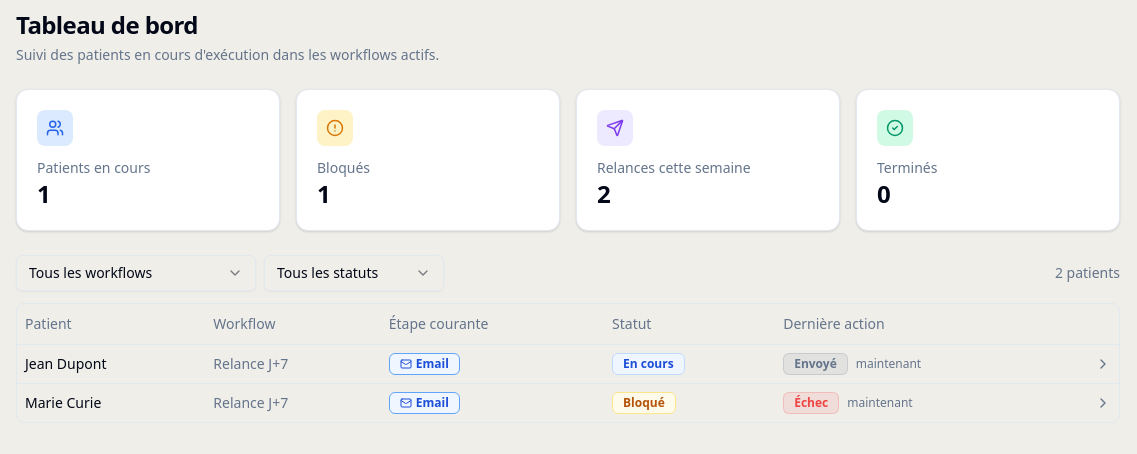
DashboardPage › filters the table by status
The image size is (1137, 454).
Check: the text "Jean Dupont" is shown, box [17,344,205,383]
Press Enter in the dropdown named "Filtrer par statut", box [264,255,444,291]
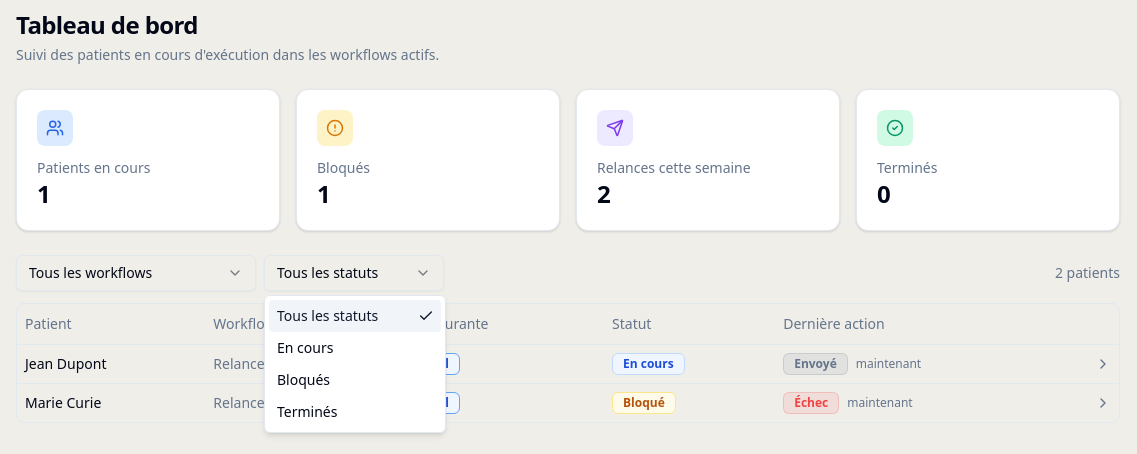
Click the option "Bloqués" at {"x": 304, "y": 380}, box [277,370,330,389]
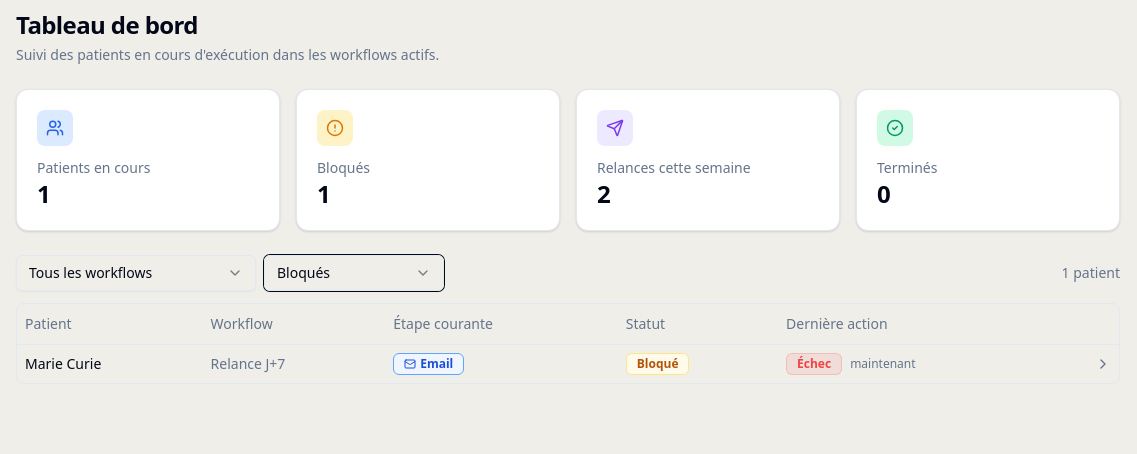
Check: the text "Marie Curie" is shown, box [17,344,203,382]
Check: the text "Jean Dupont" is gone
